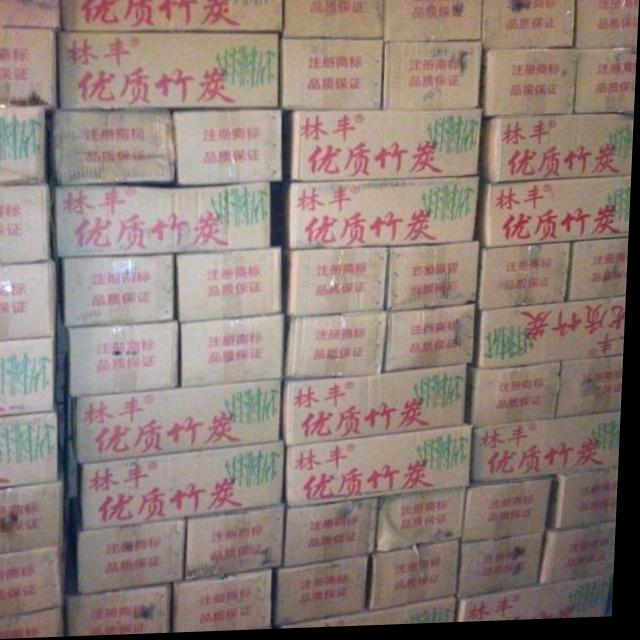box: (87, 444, 286, 530), (58, 33, 279, 110), (81, 382, 286, 465), (55, 185, 273, 257), (289, 427, 476, 508), (286, 368, 469, 447), (290, 179, 482, 251), (291, 113, 483, 184), (75, 499, 190, 595), (482, 301, 629, 373), (477, 416, 625, 487), (483, 181, 633, 251), (485, 117, 635, 185), (55, 110, 176, 186), (70, 323, 181, 398), (173, 111, 283, 186), (178, 248, 286, 323), (63, 256, 176, 327), (191, 505, 290, 582), (183, 316, 288, 388), (59, 0, 283, 33), (280, 42, 383, 113), (290, 250, 390, 320), (465, 581, 618, 626), (288, 315, 391, 381), (278, 558, 372, 630), (384, 45, 482, 112), (290, 501, 384, 570), (374, 543, 464, 614), (391, 245, 481, 314), (177, 571, 277, 633), (387, 308, 479, 375), (485, 53, 577, 119), (481, 247, 572, 313), (382, 490, 470, 557), (468, 481, 557, 546), (474, 366, 564, 428), (285, 600, 461, 631), (466, 537, 550, 601), (74, 585, 176, 637), (0, 482, 68, 554), (0, 548, 70, 617), (484, 0, 575, 52), (0, 410, 61, 487), (0, 26, 58, 106), (0, 338, 59, 416), (0, 262, 59, 339), (546, 528, 621, 588), (384, 0, 482, 44), (0, 185, 55, 263), (555, 473, 623, 536), (282, 0, 383, 41), (575, 52, 638, 117), (561, 360, 627, 421), (570, 243, 631, 305), (0, 107, 47, 186), (576, 0, 639, 52), (0, 608, 68, 639)
